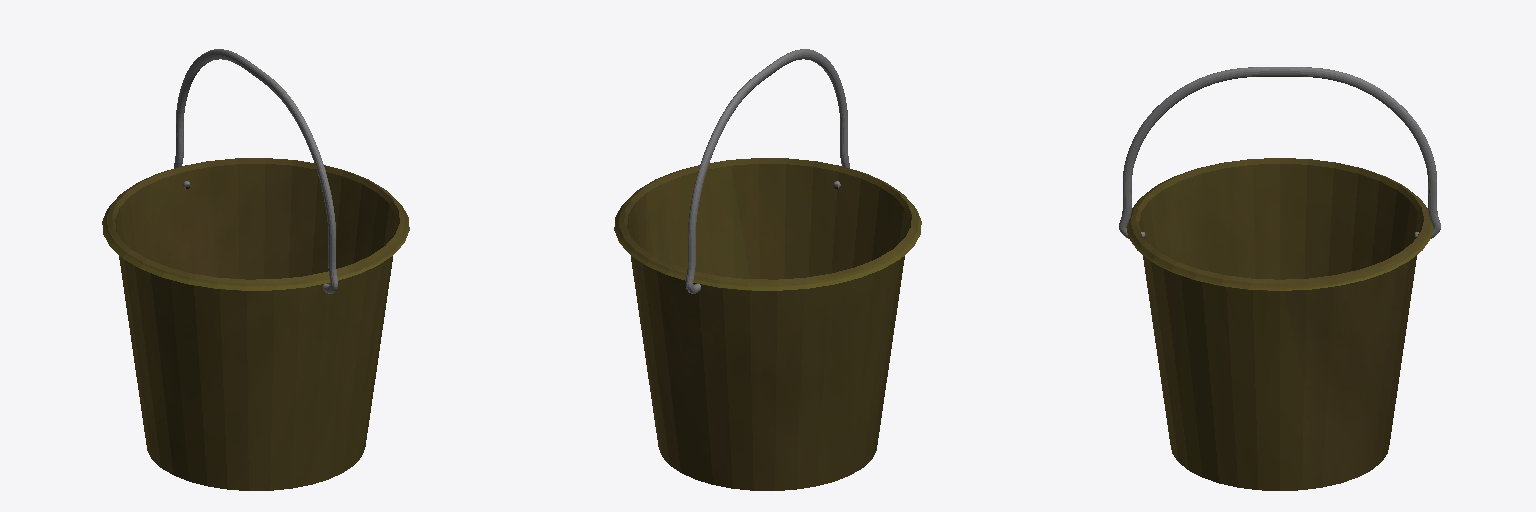
The picture shows the model from 3 angles: view 1: azimuth 30°, elevation 25°; view 2: azimuth 150°, elevation 25°; view 3: azimuth 270°, elevation 25°; orthographic projection.
Visible parts, largest first — view 1: bucket_Circle.001; view 2: bucket_Circle.001; view 3: bucket_Circle.001.
Part boxes in pixels (bbox=[...]): bucket_Circle.001: bbox=[102, 49, 409, 490]; bucket_Circle.001: bbox=[614, 49, 921, 490]; bucket_Circle.001: bbox=[1119, 67, 1440, 490].
Size of the model in its own units: 0.3795 by 0.5135 by 0.3974.
1 materials, 1 textured.